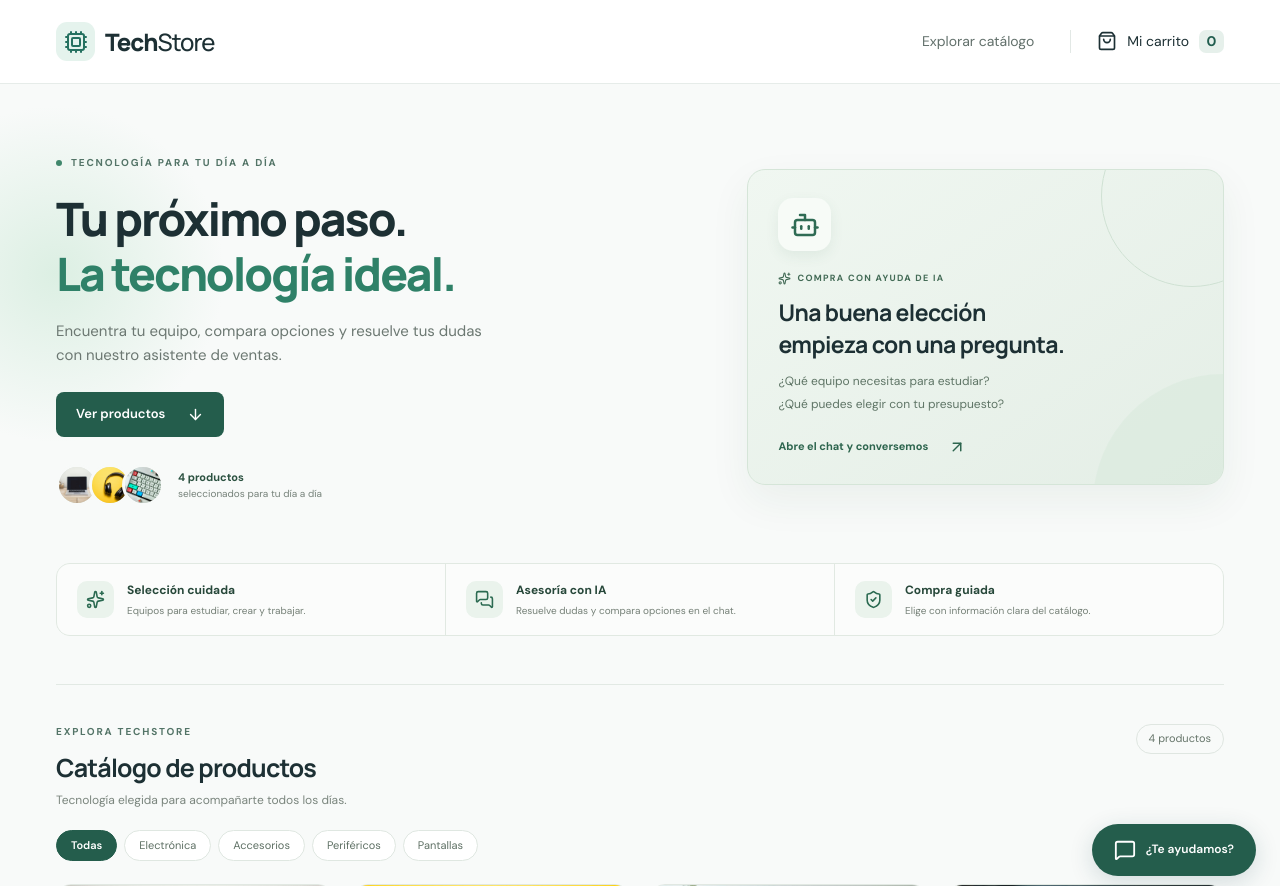
Test case: Tienda y agente conversacional — sesión 29 › permite volver a consultar después de un error de red
The image size is (1280, 886).
Click the button with aria-label "Abrir asistente".
click(1174, 850)  # box [1092, 824, 1256, 876]
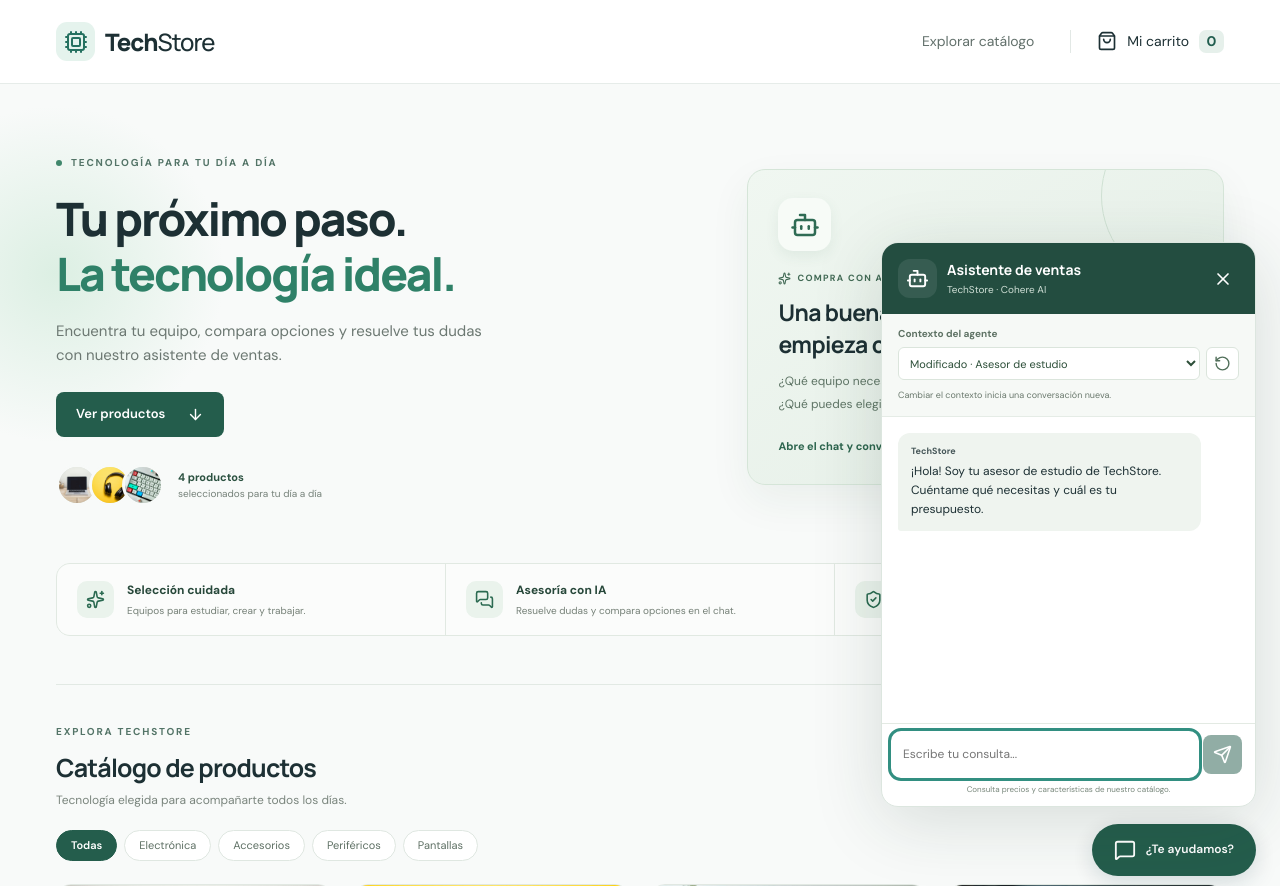
Type "Primera consulta" into the field labelled "Escribe tu consulta".
click(1045, 755); type("Primera consulta")  # box [895, 735, 1195, 774]
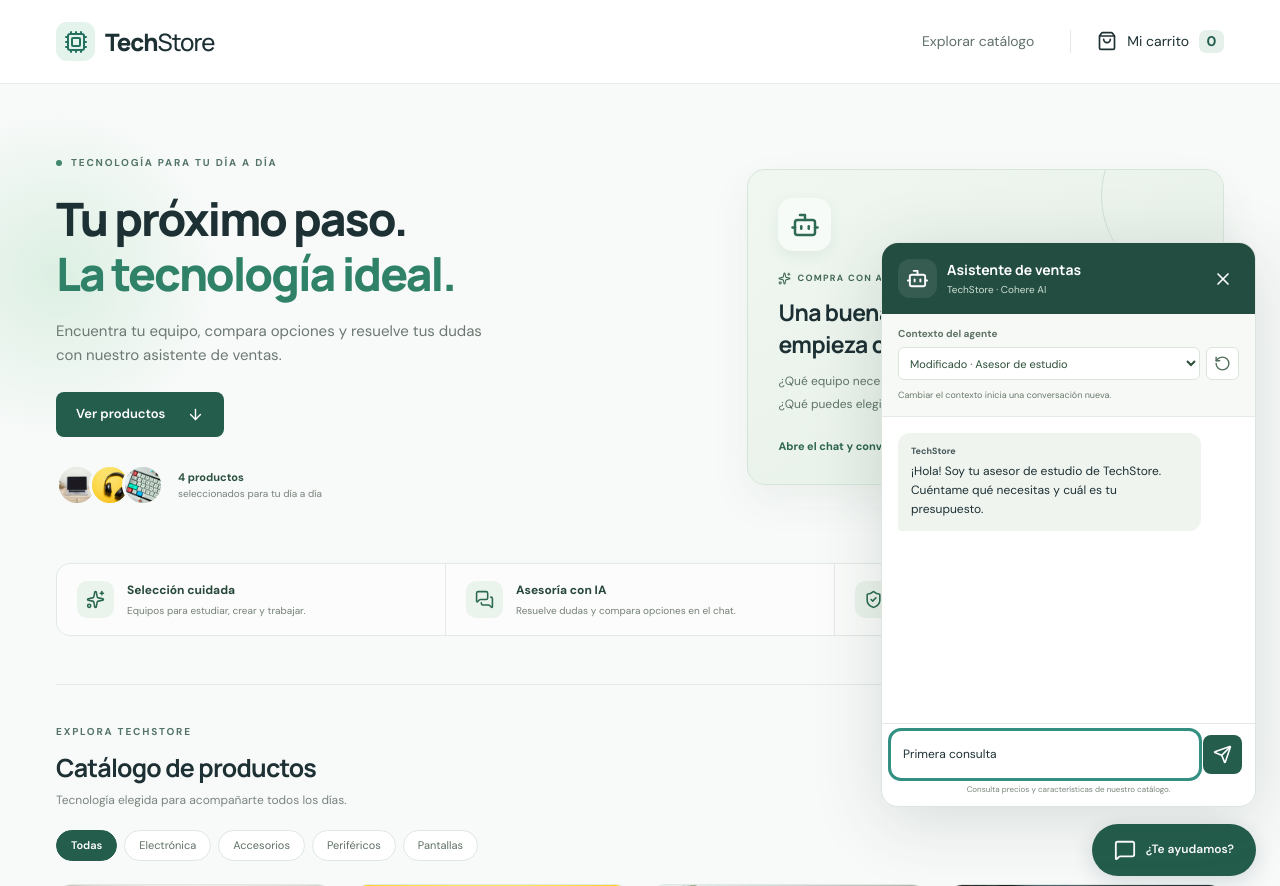
Click the button named "Enviar mensaje".
click(1222, 755)  # box [1203, 735, 1242, 774]
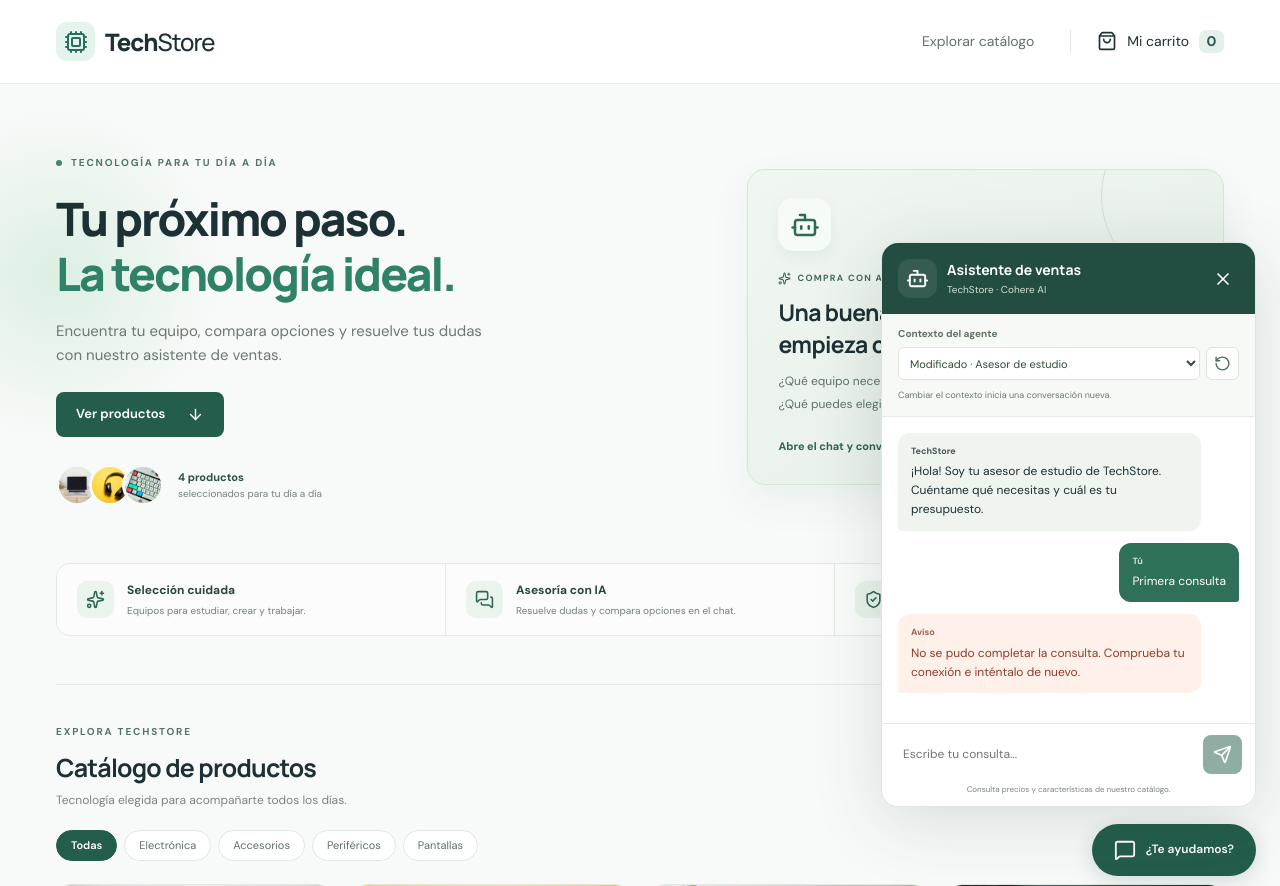
Check: the text "Comprueba tu conexión" is shown, box [911, 644, 1188, 680]
Type "Segundo intento" into the field labelled "Escribe tu consulta".
click(1045, 755); type("Segundo intento")  # box [895, 735, 1195, 774]
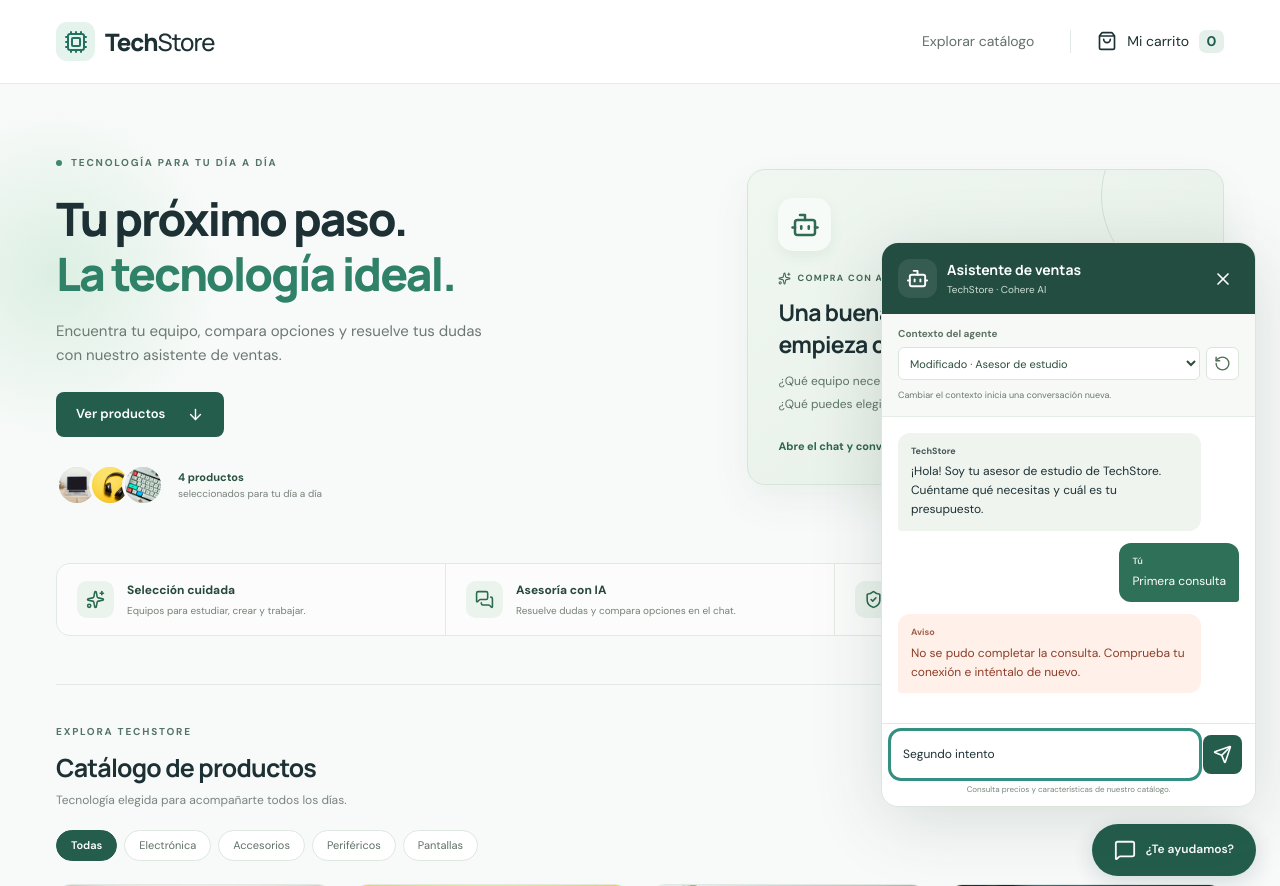
Click the button named "Enviar mensaje".
click(1222, 755)  # box [1203, 735, 1242, 774]
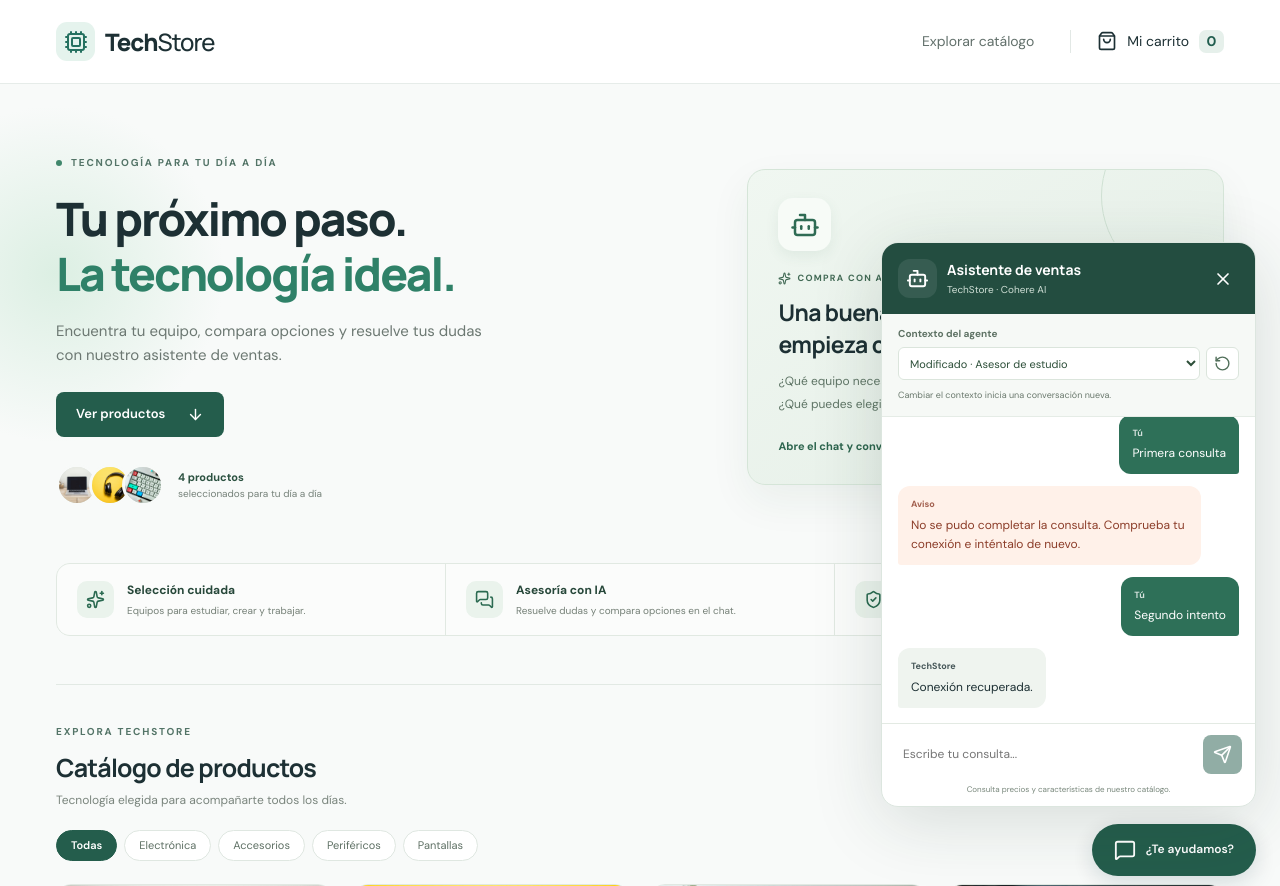
Check: the text "Conexión recuperada." is shown, box [911, 678, 1033, 697]
